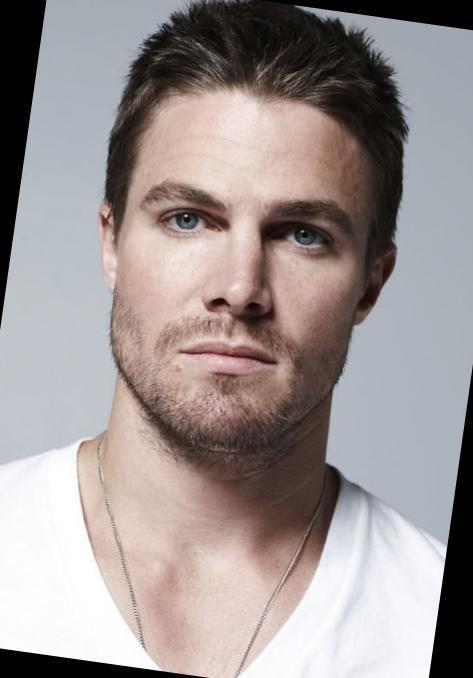Sober: (129, 112, 360, 415)
